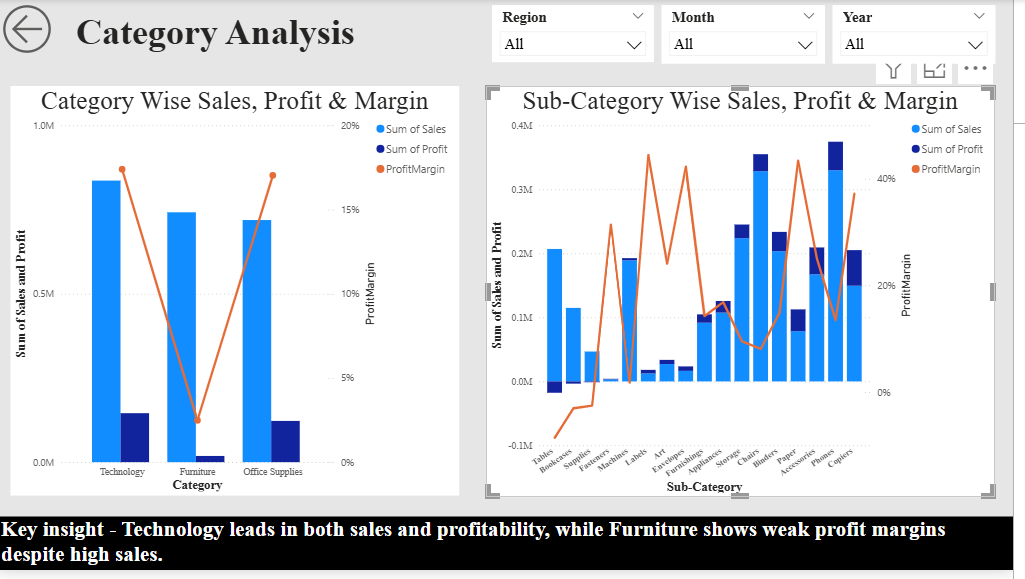

This screenshot's page, from the dashboard's own definition file:
{"tool":"powerbi","page":{"name":"Category Analysis","canvas":[1280,720],"ordinal":2},"visuals":[{"type":"actionButton","box":[0,0,100.2,75.6],"z":0},{"type":"lineClusteredColumnComboChart","title":"Category Wise Sales, Profit & Margin","fields":{"Category":["cleaned_sales_data xls.Category"],"Y":["Sum(cleaned_sales_data xls.Sales)","Sum(cleaned_sales_data xls.Profit)"],"Y2":["cleaned_sales_data xls.ProfitMargin"]},"box":[17,109.6,565,515.9],"z":1000},{"type":"lineStackedColumnComboChart","title":"Sub-Category Wise Sales, Profit & Margin","fields":{"Category":["cleaned_sales_data xls.Sub-Category"],"Y":["Sum(cleaned_sales_data xls.Sales)","Sum(cleaned_sales_data xls.Profit)"],"Y2":["cleaned_sales_data xls.ProfitMargin"]},"box":[616.1,109.6,640.6,517.8],"z":2000},{"type":"textbox","title":"Key insight - Technology leads in both sales and profitability, while Furniture shows weak profit margins despite high sales.","box":[0,652,1279.4,68],"z":3000},{"type":"slicer","fields":{"Values":["cleaned_sales_data xls.OrderDate.Variation.Date Hierarchy.Year"]},"box":[1052,7,205,73.7],"z":6000},{"type":"slicer","fields":{"Values":["cleaned_sales_data xls.Region"]},"box":[623.6,7,204.1,71.8],"z":7000},{"type":"slicer","fields":{"Values":["cleaned_sales_data xls.OrderDate.Variation.Date Hierarchy.Month"]},"box":[838,7.6,206,73.7],"z":8000},{"type":"textbox","title":"Category Analysis","box":[94.5,15.1,412,94.5],"z":9000}]}

Visuals, with their boxes in screenshot pixels (x1, y1, x2, y2), scaled from the page's 1280x720 canvas onto the 1025x579 screenshot:
actionButton: bbox(0, 0, 80, 61)
"Category Wise Sales, Profit & Margin" lineClusteredColumnComboChart: bbox(14, 88, 466, 503)
"Sub-Category Wise Sales, Profit & Margin" lineStackedColumnComboChart: bbox(493, 88, 1006, 505)
"Key insight - Technology leads in both sales and profitability, while Furniture shows weak profit margins despite high sales." textbox: bbox(0, 524, 1024, 578)
slicer - cleaned_sales_data xls.OrderDate.Variation.Date Hierarchy.Year: bbox(842, 6, 1007, 65)
slicer - cleaned_sales_data xls.Region: bbox(499, 6, 663, 63)
slicer - cleaned_sales_data xls.OrderDate.Variation.Date Hierarchy.Month: bbox(671, 6, 836, 65)
"Category Analysis" textbox: bbox(76, 12, 406, 88)
